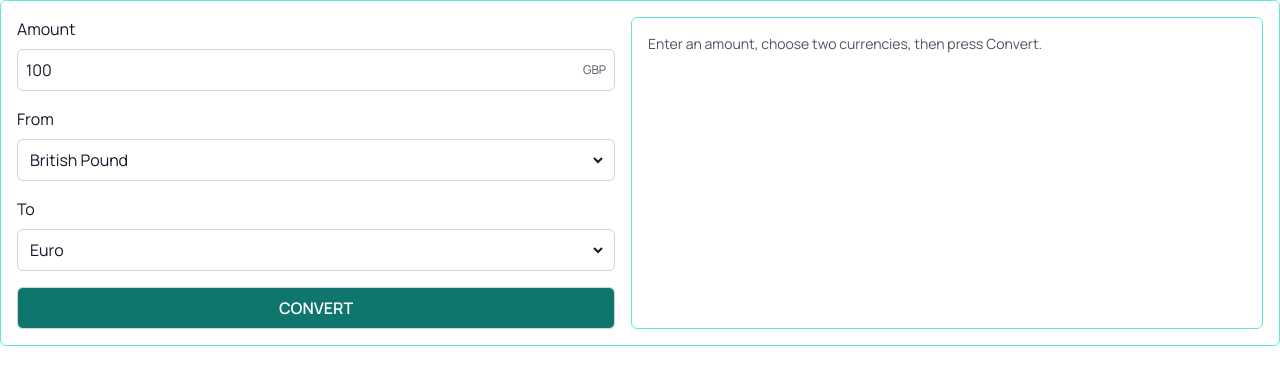
Test: CurrencyForm › shows an error when the amount is empty
The image size is (1280, 391).
Expected: the dropdown labelled "From" is shown, [26,148,606,172]
Clear the field labelled "Amount": (298, 70) [26,58,571,82]
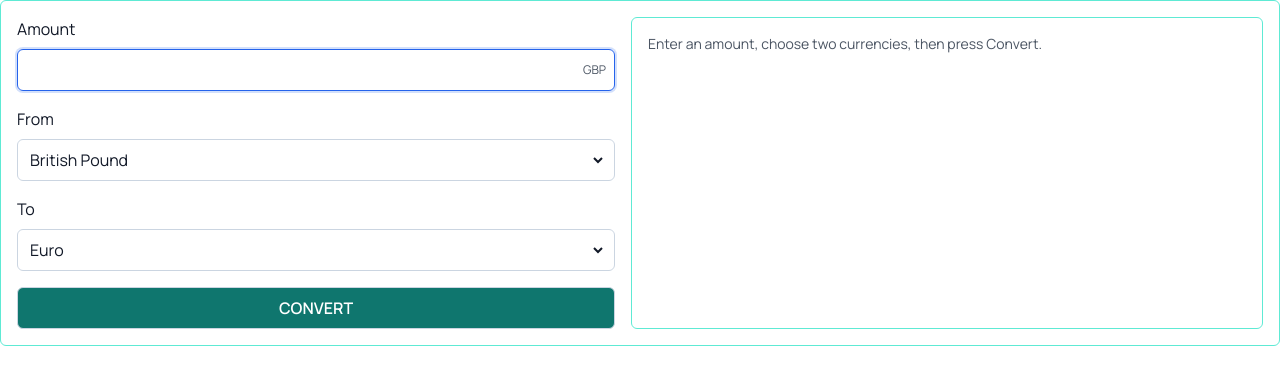
Click the button "CONVERT": click(316, 308) [17,287,615,329]
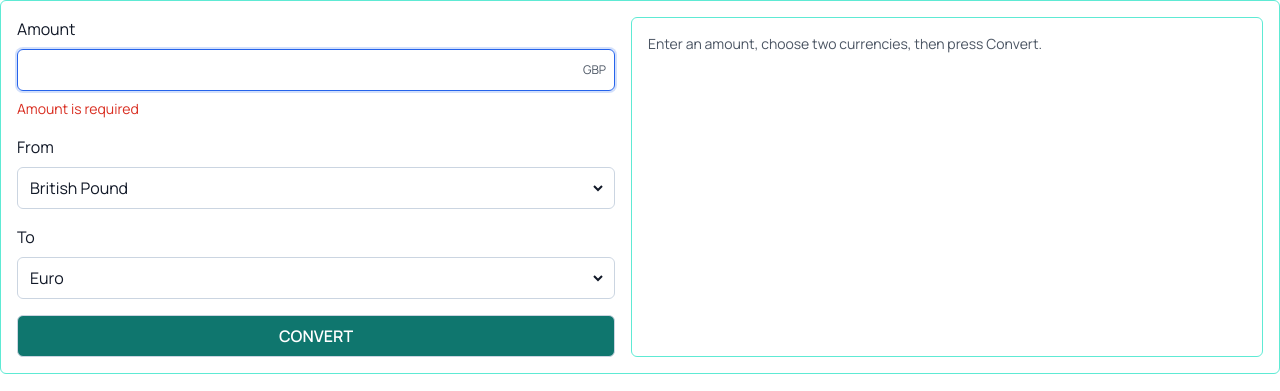
Now the text "Amount is required" is shown, box [17,99,139,118]
